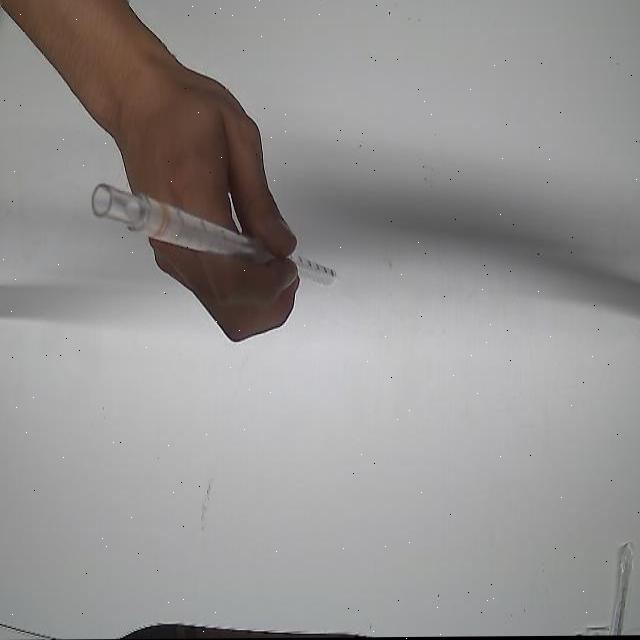Serelogical Pipet 10 mL: (87, 172, 346, 295)
